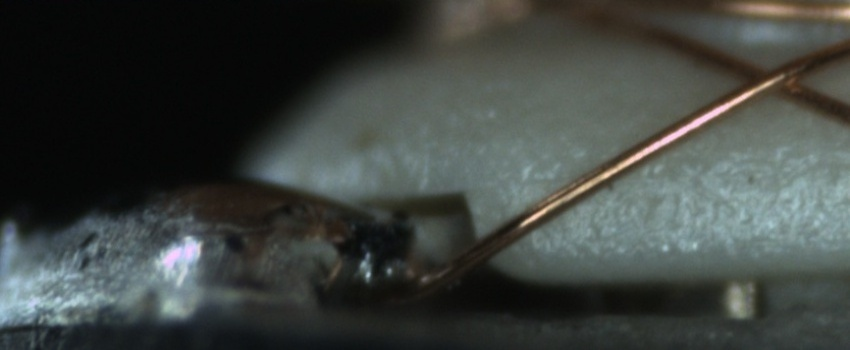CL: (721, 51, 820, 105)
DL: (533, 136, 849, 202)
